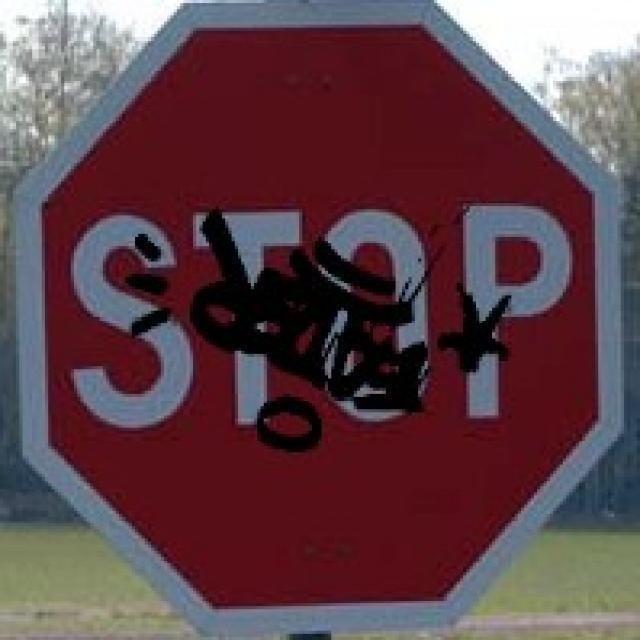Stop-Sign: (63, 30, 588, 600)
